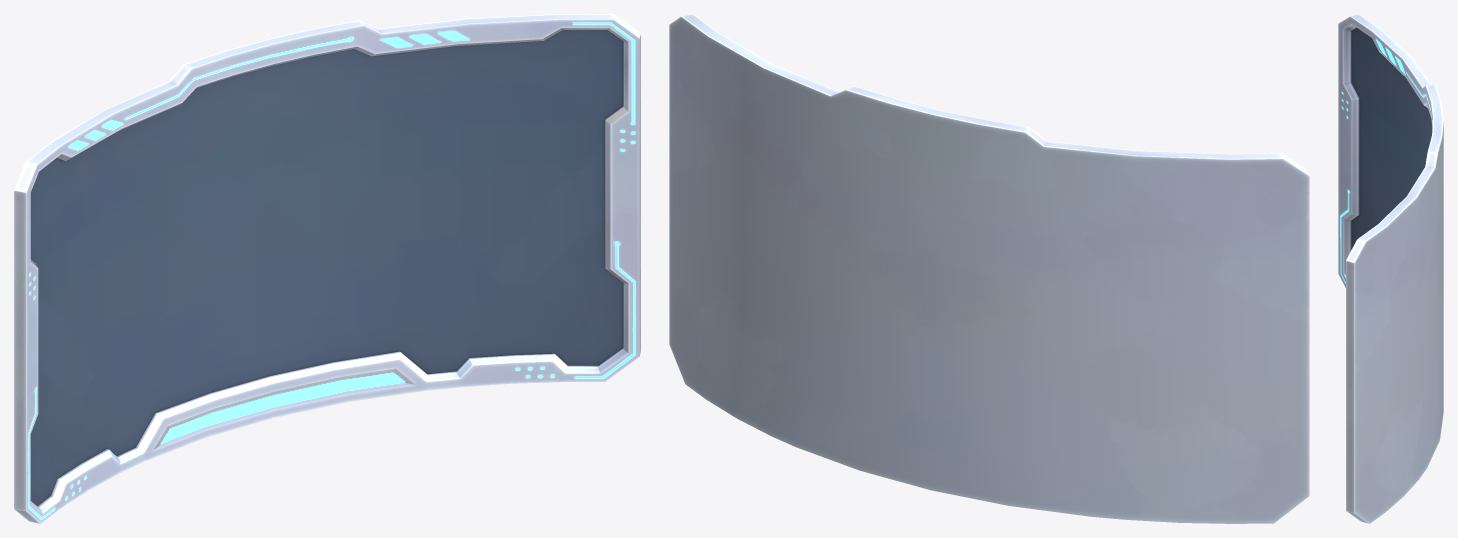
File: obj_screen05.gltf
The picture shows the model from 3 angles, left to right: view 1: azimuth 30°, elevation 25°; view 2: azimuth 150°, elevation 25°; view 3: azimuth 270°, elevation 25°; orthographic projection. The views are drawn at different scales.
Visible parts, largest first — view 1: obj_screen05; view 2: obj_screen05; view 3: obj_screen05.
Part boxes in pixels (<box>): obj_screen05: <box>14,14,640,523</box>; obj_screen05: <box>669,14,1309,523</box>; obj_screen05: <box>1338,14,1443,523</box>.
Size of what is drawn, in the model's own units: 4.69 by 2.65 by 0.8622.
1 material, 1 textured.
